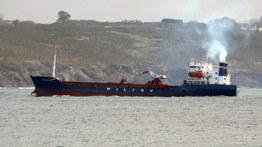Cargoship: (28, 48, 242, 97)
